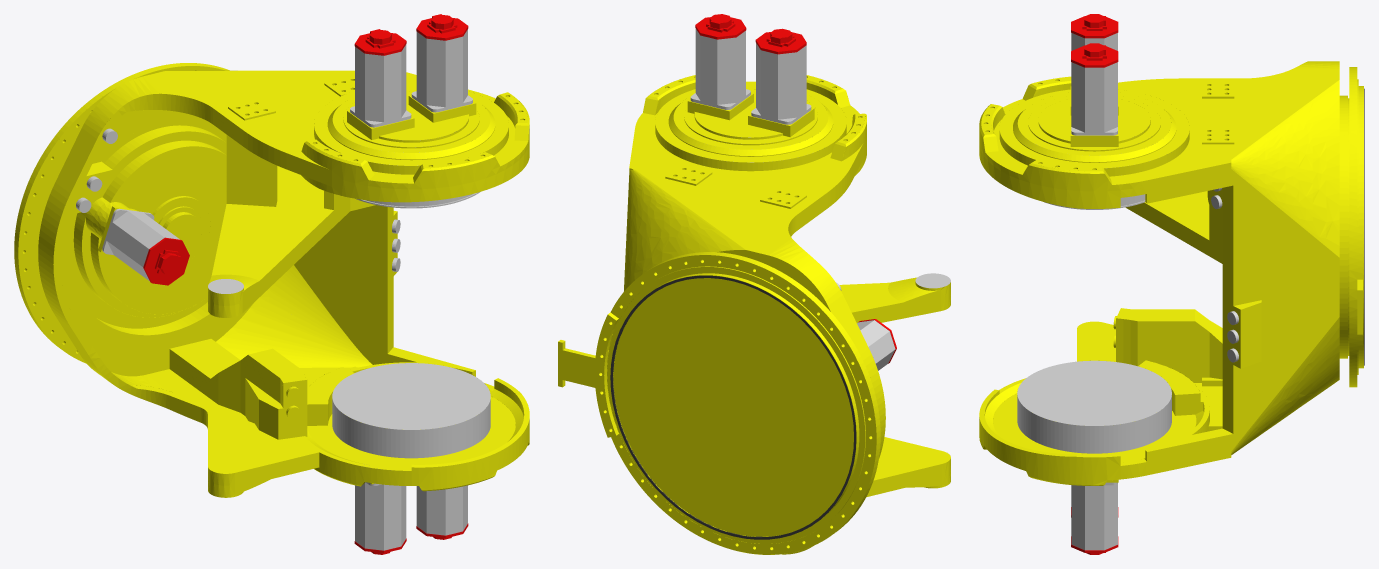
The picture shows the model from 3 angles, left to right: view 1: azimuth 30°, elevation 25°; view 2: azimuth 150°, elevation 25°; view 3: azimuth 270°, elevation 25°; orthographic projection. The views are drawn at different scales.
Visible parts, largest first — view 1: node; view 2: node; view 3: node.
Boxes of the visible parts, <box> form: node: <box>14,14,529,554</box>; node: <box>558,14,950,554</box>; node: <box>979,14,1364,554</box>.
Bounding box in the file's own units: 1515 × 2046 × 1420.
